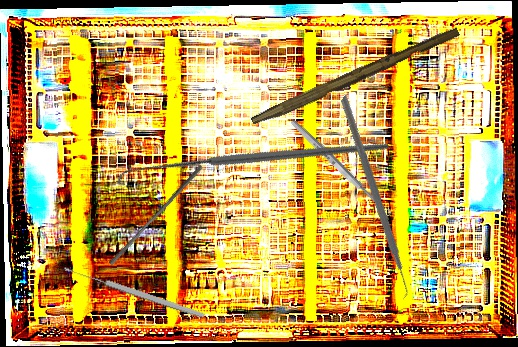Chopper: (261, 94, 481, 309)
Hook Surgical: (115, 47, 392, 281)
Pusher: (108, 161, 204, 269)
Scalpel Handle: (250, 22, 461, 132)
Surgical Spoon: (288, 117, 393, 219), (61, 263, 207, 321)
